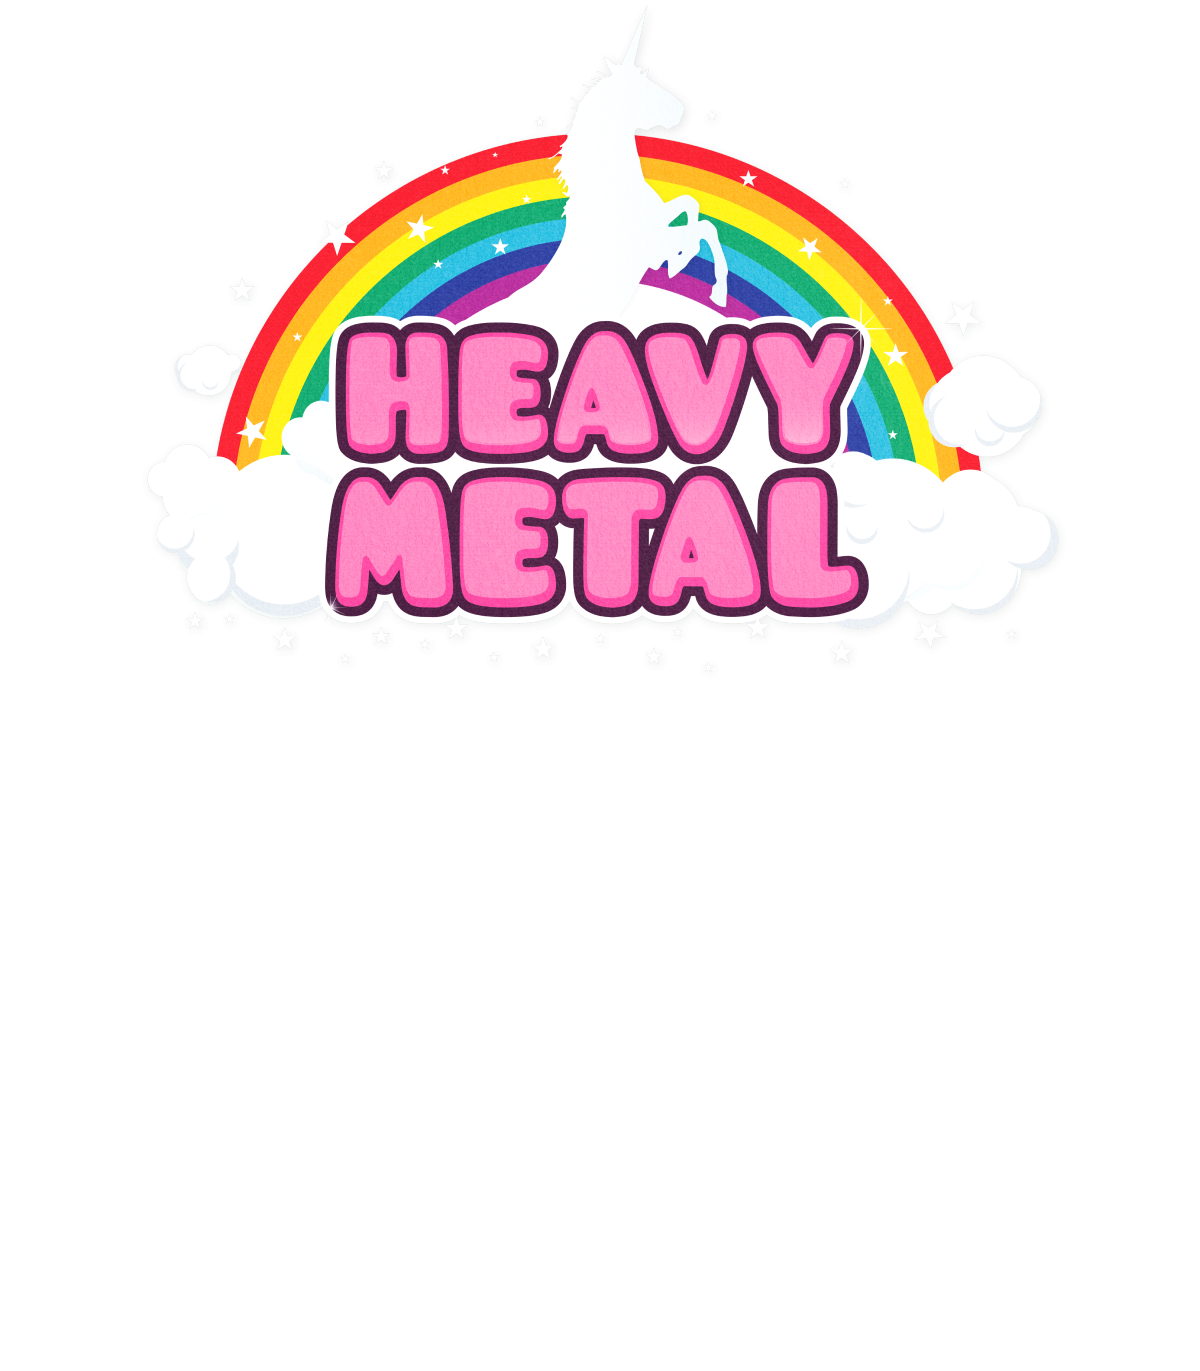design: (136, 3, 1087, 690)
